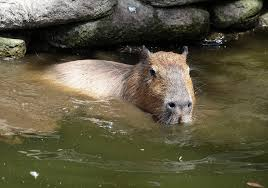capivara: (46, 45, 198, 127)
